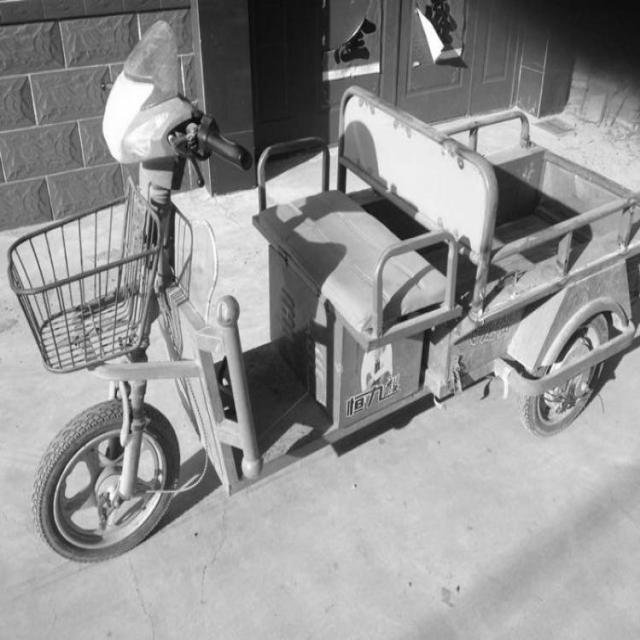tricycle: (7, 18, 639, 560)
